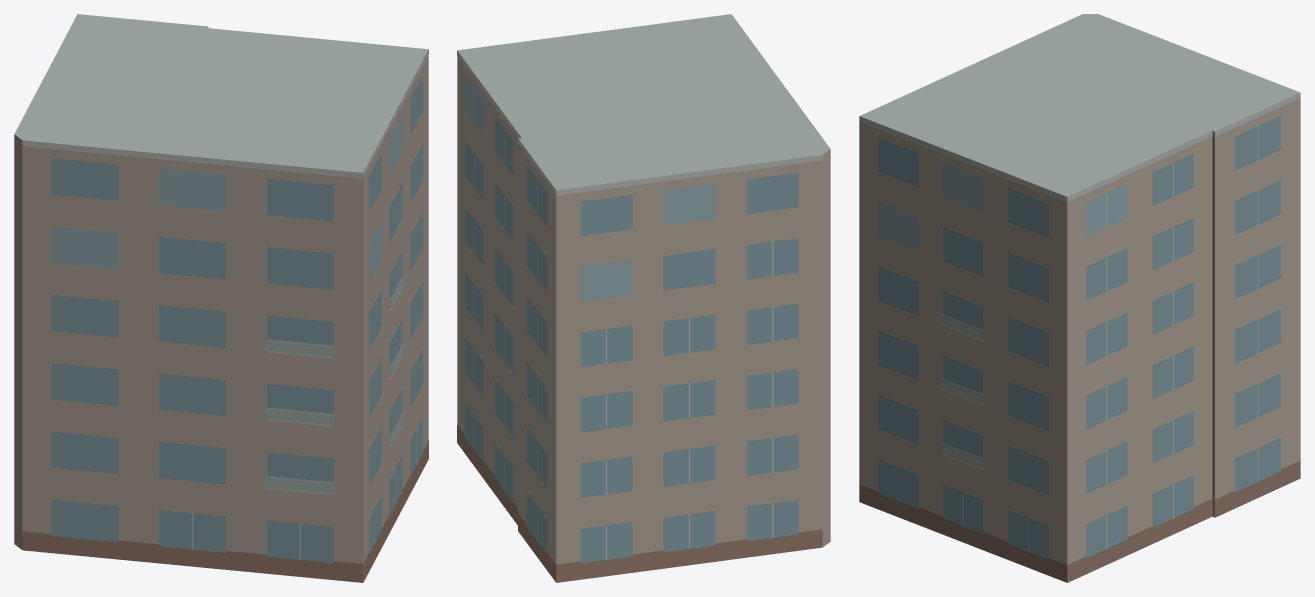
Rendered from survey-upis-32657993.glb.
3 views of the same model, side by side, from view 1: azimuth 30°, elevation 25°; view 2: azimuth 150°, elevation 25°; view 3: azimuth 270°, elevation 25° (orthographic). The views are drawn at different scales.
Visible parts, largest first — view 1: survey-upis-32657993.tmp; view 2: survey-upis-32657993.tmp; view 3: survey-upis-32657993.tmp.
Boxes of the visible parts, left/top/right/bottom form: survey-upis-32657993.tmp: left=14, top=14, right=428, bottom=582; survey-upis-32657993.tmp: left=457, top=14, right=830, bottom=582; survey-upis-32657993.tmp: left=859, top=14, right=1300, bottom=582.
Bounding box in the file's own units: 17.59 × 17.3 × 17.93.
